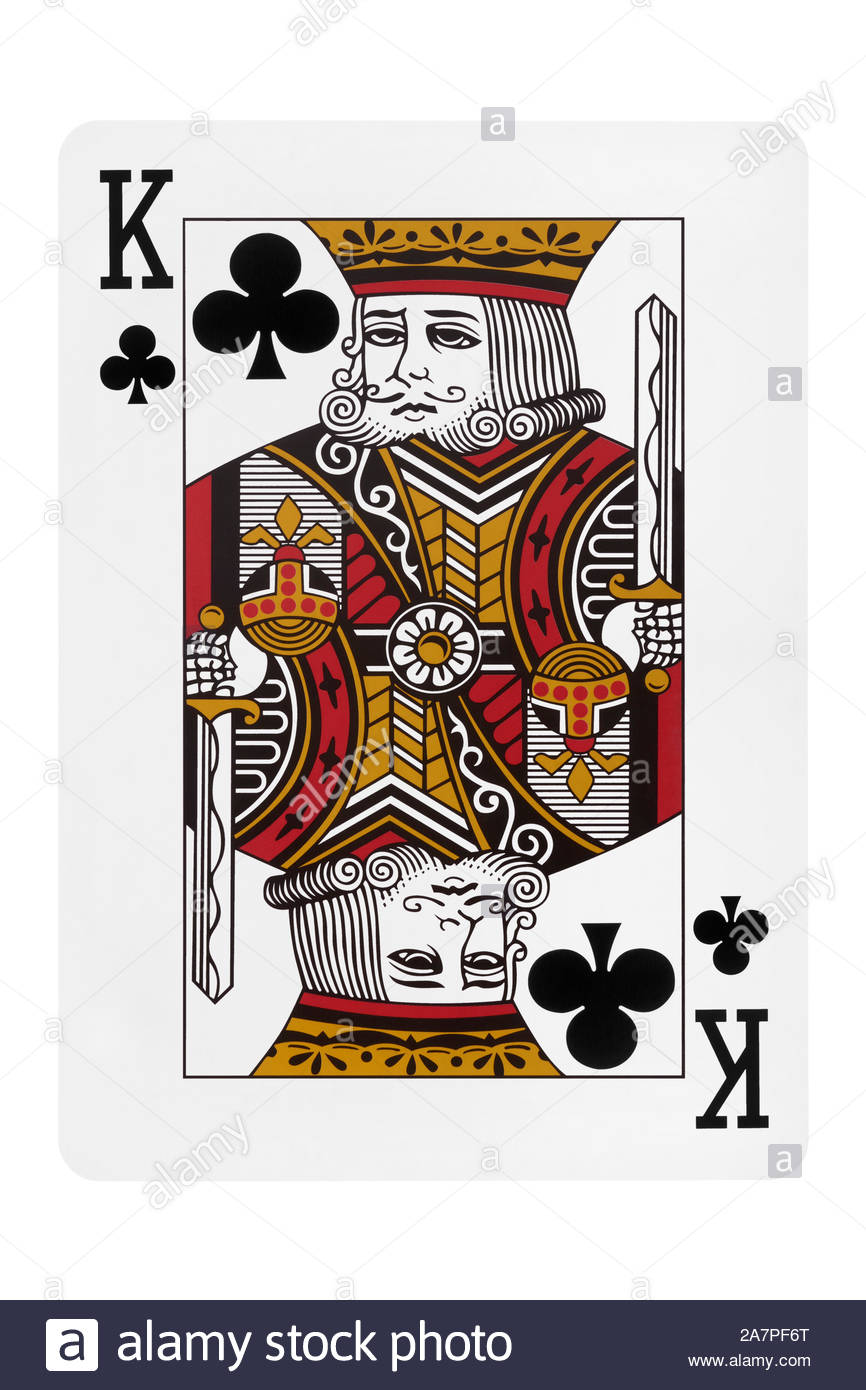king of clubs: (64, 124, 799, 1185)
